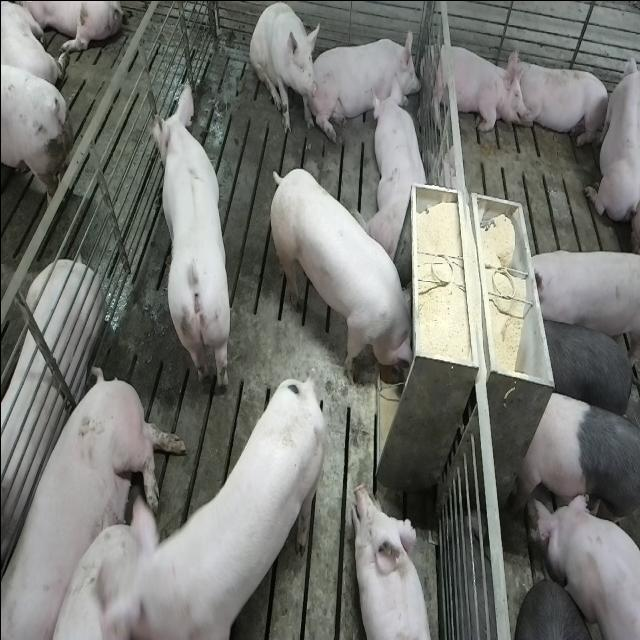Feeding: (272, 165, 420, 391)
Lateral_lying: (2, 362, 188, 635), (0, 256, 103, 632)
Sitting: (250, 2, 320, 136)
Standing: (134, 366, 332, 634), (150, 82, 232, 400), (516, 384, 638, 543), (528, 486, 637, 640), (521, 245, 637, 364), (536, 314, 638, 419)
Sternal_lying: (349, 483, 432, 640), (314, 26, 423, 135), (366, 84, 430, 264), (584, 42, 637, 232), (426, 36, 524, 134), (512, 52, 610, 149)
